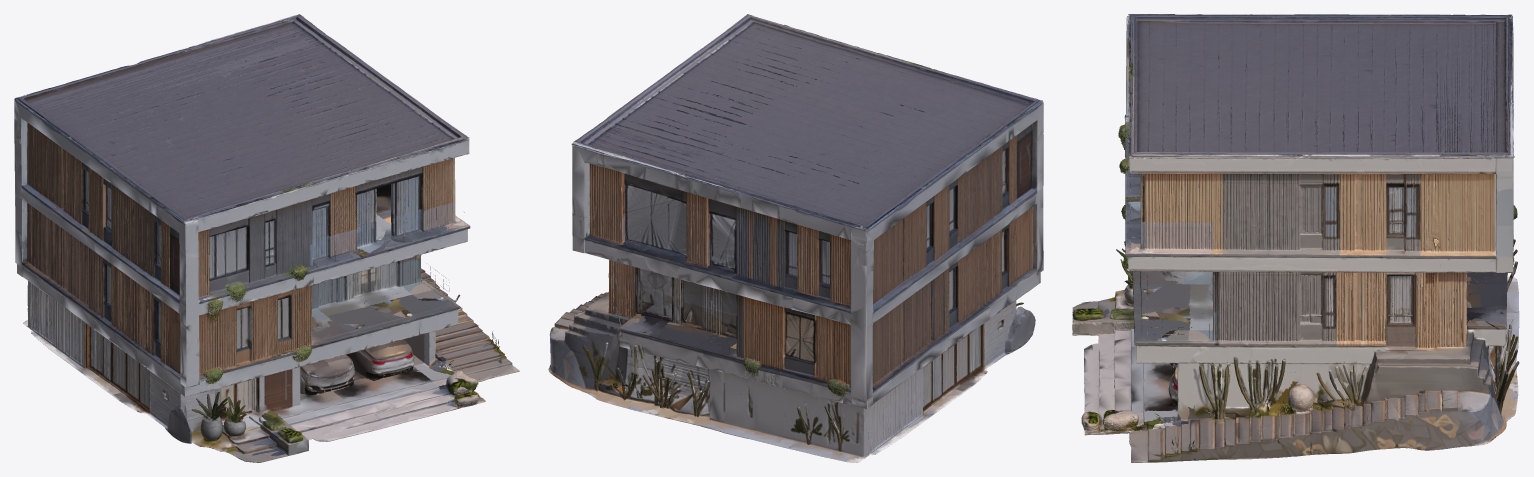
File: villa-mesh.glb
3 renders of one model, left to right at view 1: azimuth 30°, elevation 25°; view 2: azimuth 150°, elevation 25°; view 3: azimuth 270°, elevation 25°, orthographic. The views are drawn at different scales.
Parts seen in each view (by area): view 1: tmp49w1y0fyobj; view 2: tmp49w1y0fyobj; view 3: tmp49w1y0fyobj.
Boxes of the visible parts, left/top/right/bottom form: tmp49w1y0fyobj: left=14, top=14, right=519, bottom=462; tmp49w1y0fyobj: left=548, top=14, right=1043, bottom=462; tmp49w1y0fyobj: left=1072, top=14, right=1519, bottom=462.
Size of the model in its own units: 0.9957 by 0.7008 by 1.
1 material, 1 textured.
